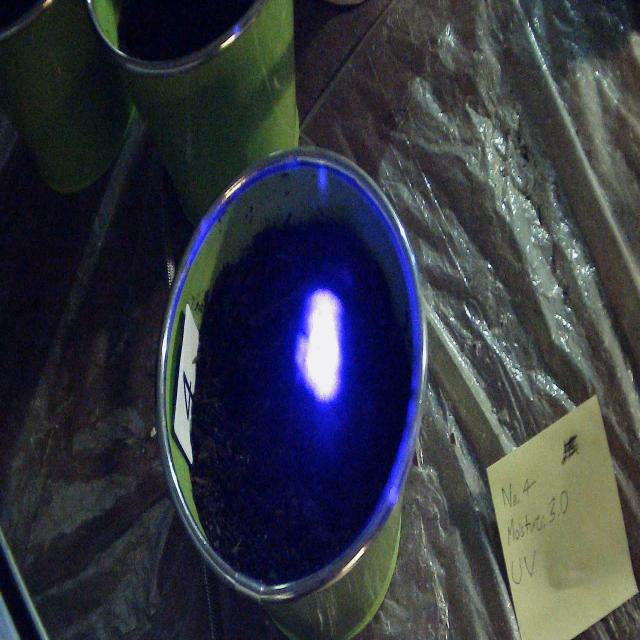soil-moisture-3.0: (292, 289, 349, 403)
